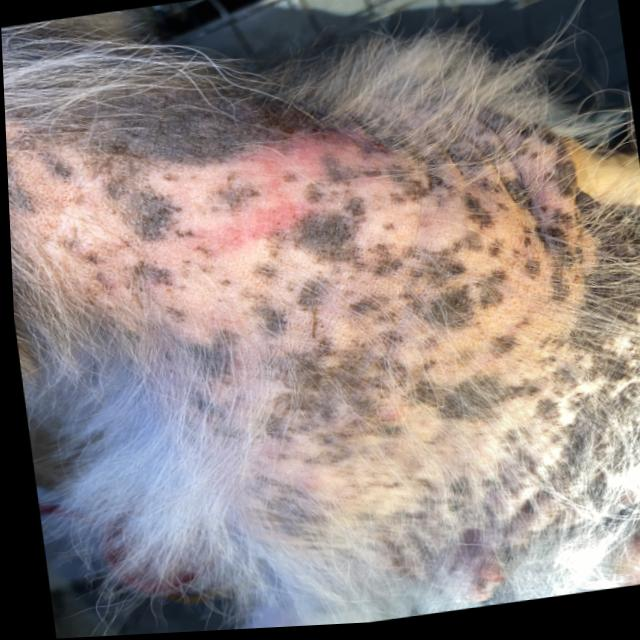demodicosis: (20, 49, 575, 398), (247, 333, 640, 617)
